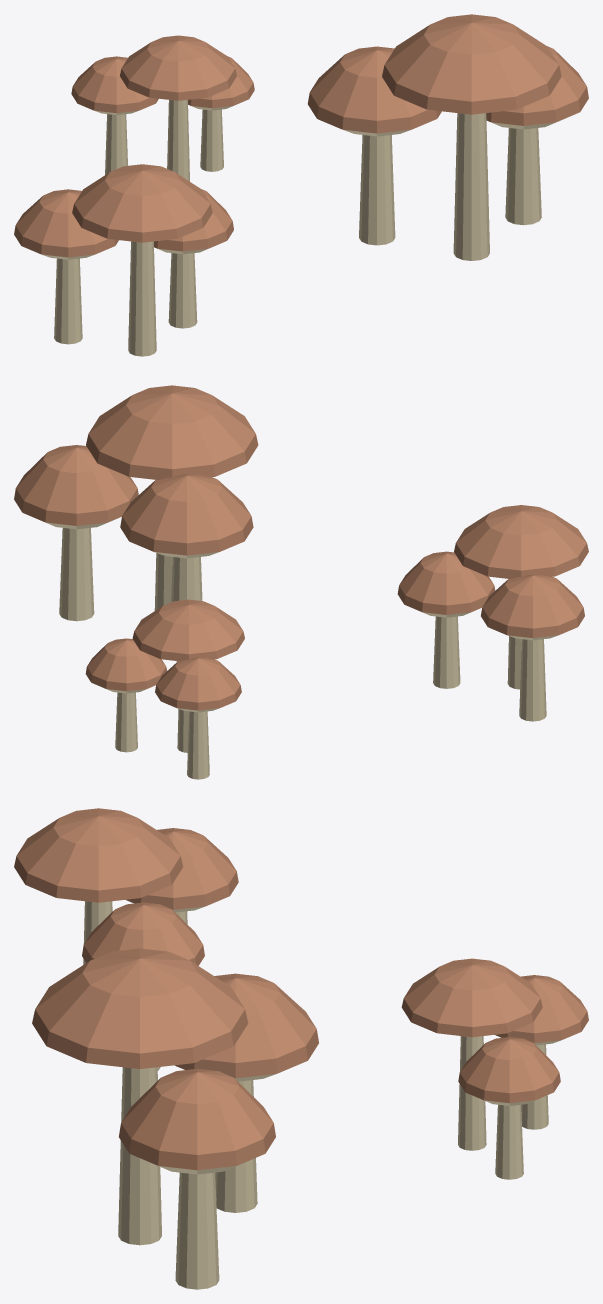
The picture shows the model from 3 angles, top to bottom: view 1: azimuth 30°, elevation 25°; view 2: azimuth 150°, elevation 25°; view 3: azimuth 270°, elevation 25°; orthographic projection. The views are drawn at different scales.
Parts seen in each view (by area): view 1: nature-mushroom-clusters-01; view 2: nature-mushroom-clusters-01; view 3: nature-mushroom-clusters-01.
Boxes of the visible parts, left/top/right/bottom form: nature-mushroom-clusters-01: left=14, top=14, right=588, bottom=356; nature-mushroom-clusters-01: left=14, top=385, right=588, bottom=779; nature-mushroom-clusters-01: left=14, top=808, right=588, bottom=1289.
Size of the model in its own units: 0.9521 by 0.3688 by 0.6926.
